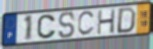1: (22, 14, 33, 43)
C: (36, 14, 57, 40), (77, 10, 96, 37)
D: (115, 6, 137, 35)
H: (96, 8, 117, 36)
S: (58, 11, 77, 40)
